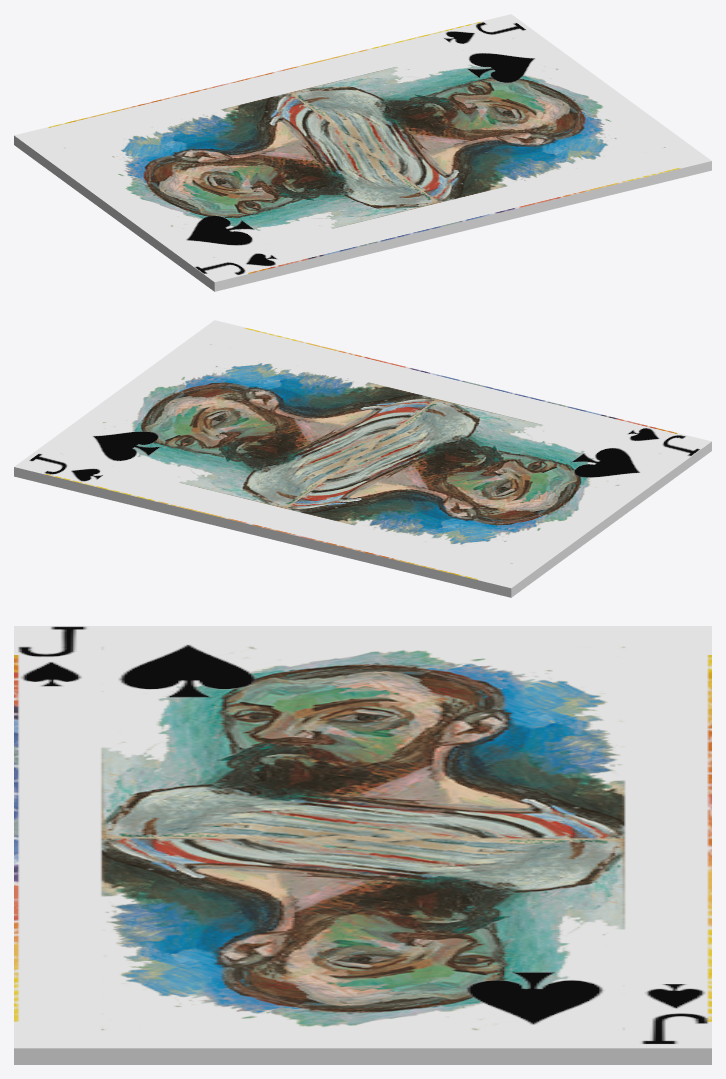
Rendered from matisse card.fbx.
3 views of the same model, one above another, from view 1: azimuth 30°, elevation 25°; view 2: azimuth 150°, elevation 25°; view 3: azimuth 270°, elevation 25° (orthographic). The views are drawn at different scales.
Visible parts, largest first — view 1: pCube5; view 2: pCube5; view 3: pCube5.
Boxes of the visible parts, x1,y1,x2,y2 form: pCube5: [14, 14, 711, 291]; pCube5: [14, 320, 711, 597]; pCube5: [14, 626, 711, 1064].
Size of the model in its own units: 3.64 by 0.0669 by 2.54.
1 material, 1 textured.
